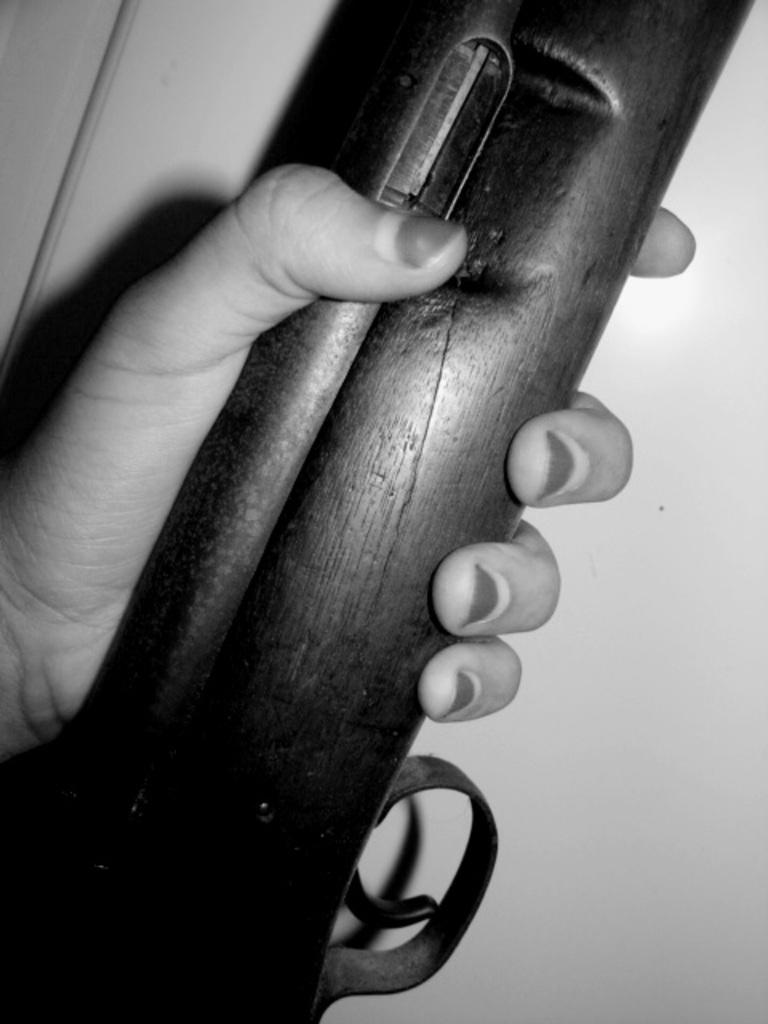Shotgun: (0, 0, 757, 1022)
